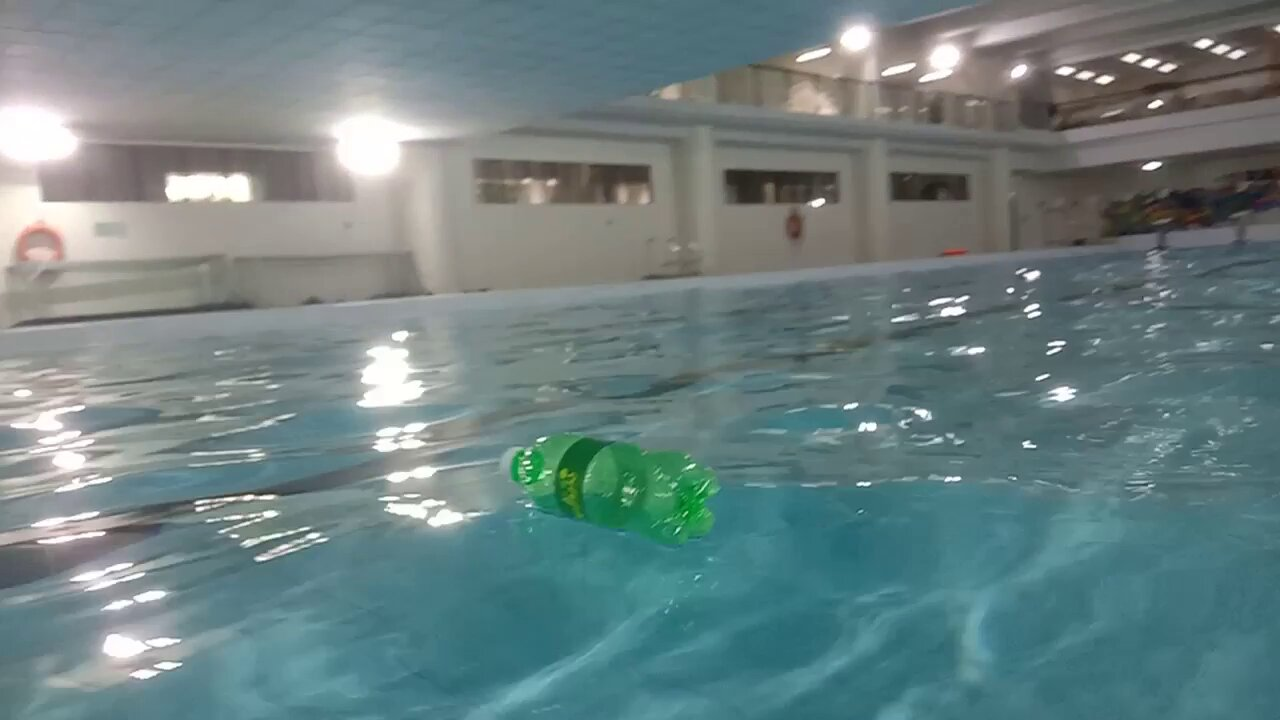plastic_bottle: (502, 436, 718, 544)
